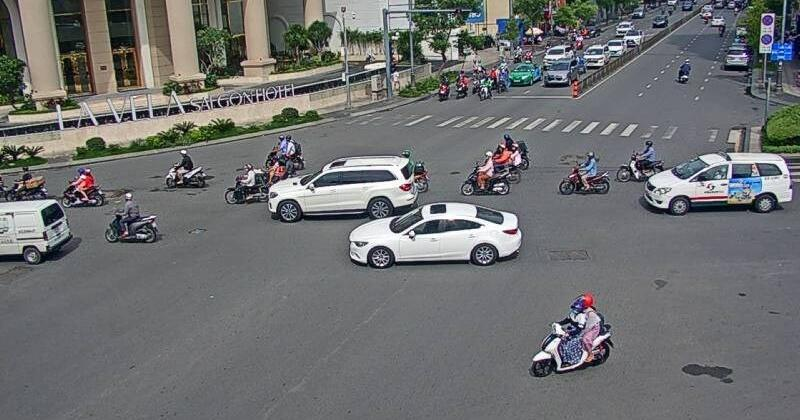xe hoi: (344, 203, 522, 269), (642, 149, 792, 215), (263, 158, 418, 221)
xe may: (529, 292, 613, 380), (103, 191, 157, 243), (457, 148, 510, 197), (556, 150, 609, 195), (615, 138, 661, 184), (225, 162, 268, 205), (161, 150, 206, 189), (60, 167, 104, 206), (264, 134, 304, 171)
